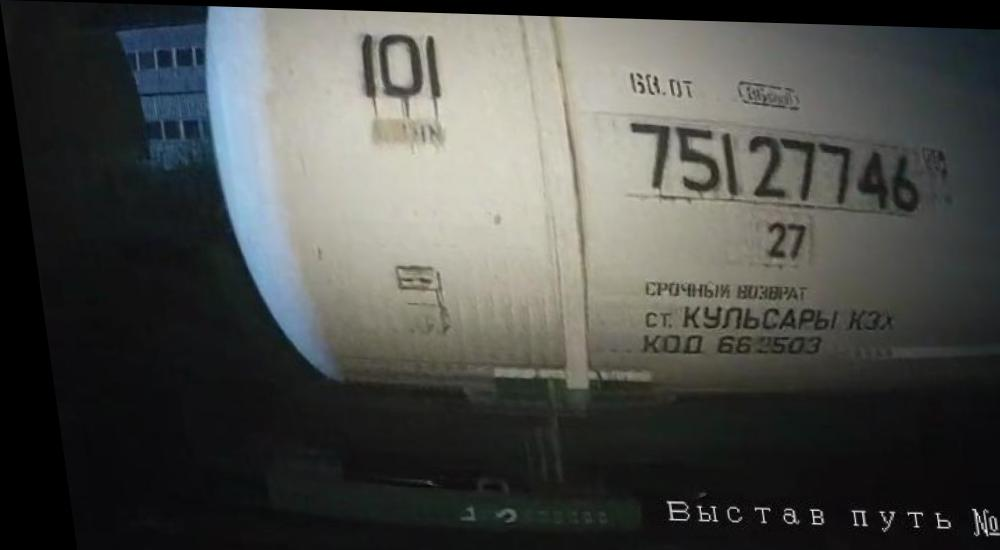Wagon-number: (620, 114, 922, 212)
